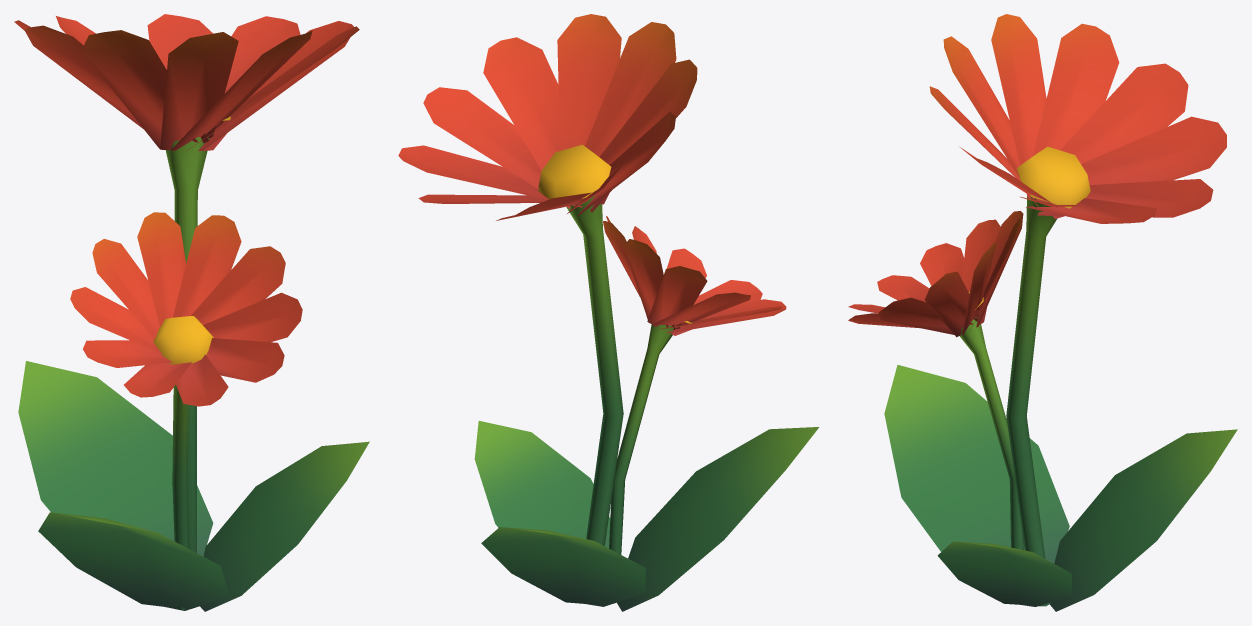
Rendered from flower-red.glb.
3 renders of one model, left to right at view 1: azimuth 30°, elevation 25°; view 2: azimuth 150°, elevation 25°; view 3: azimuth 270°, elevation 25°, orthographic. The views are drawn at different scales.
Parts seen in each view (by area): view 1: Flower.010; view 2: Flower.010; view 3: Flower.010.
Part boxes in pixels (x1=…): Flower.010: x1=14, y1=14, x2=369, y2=611; Flower.010: x1=398, y1=14, x2=819, y2=611; Flower.010: x1=848, y1=14, x2=1237, y2=611.
Bounding box in the file's own units: 1.64 × 2.73 × 1.75.
Materials: 1 (1 with a texture image).
